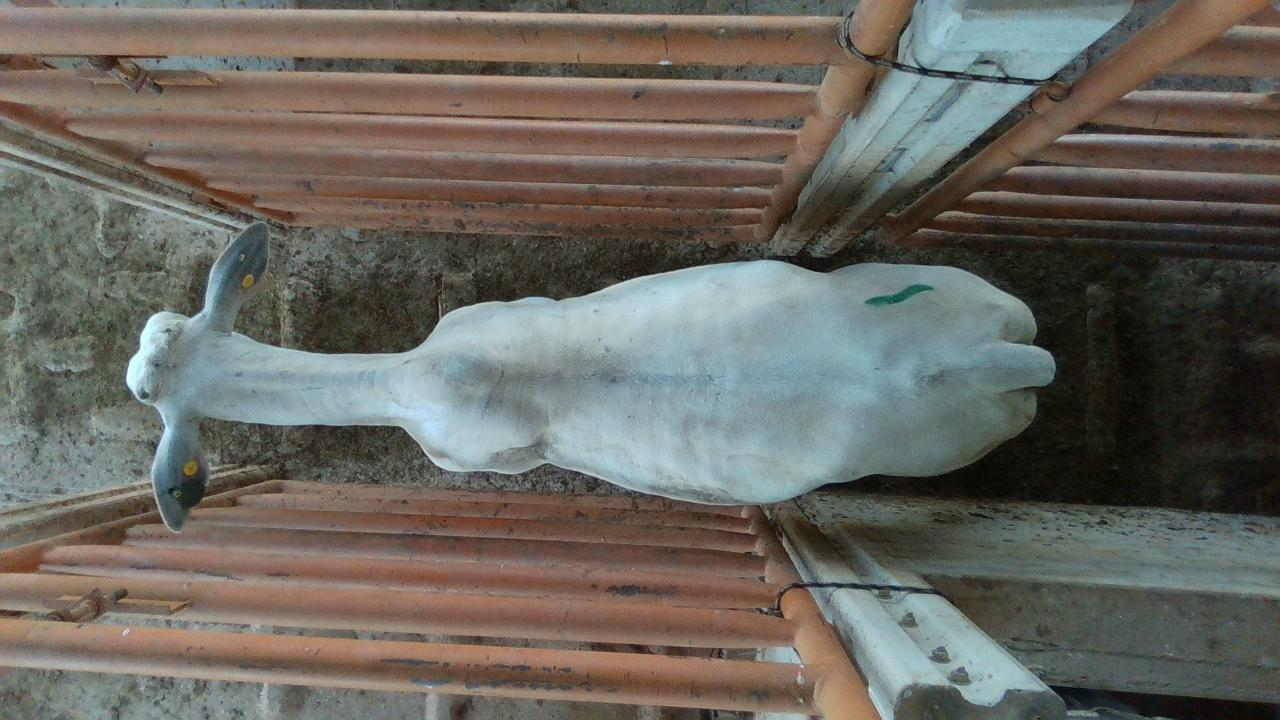cattle: (123, 219, 1057, 531)
